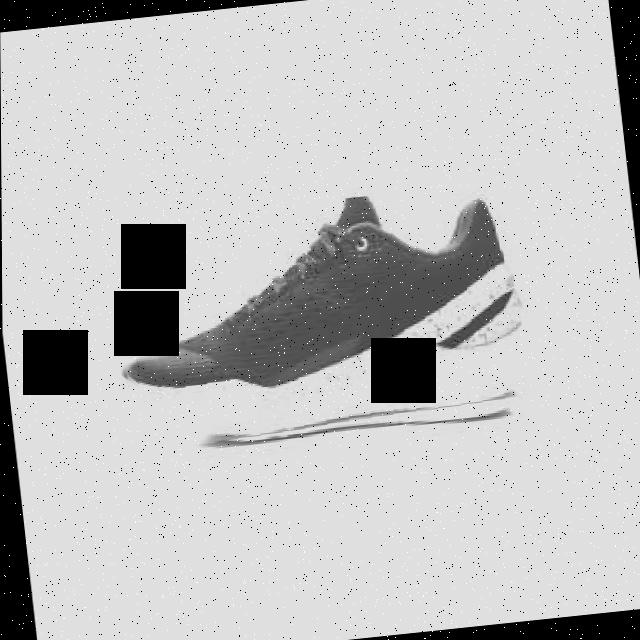shoe: (104, 180, 543, 454)
